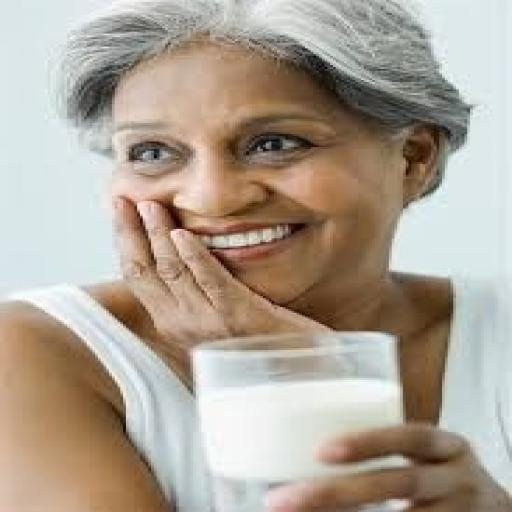drinking: (188, 328, 412, 510)
